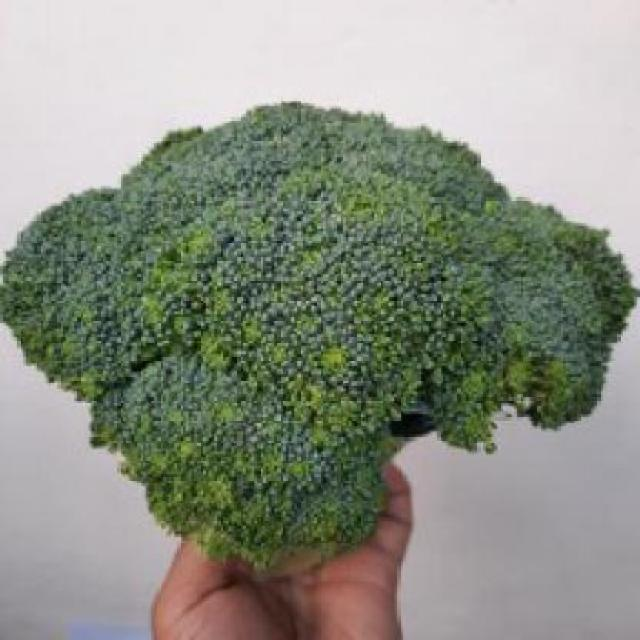broccoli: (17, 140, 626, 546)
